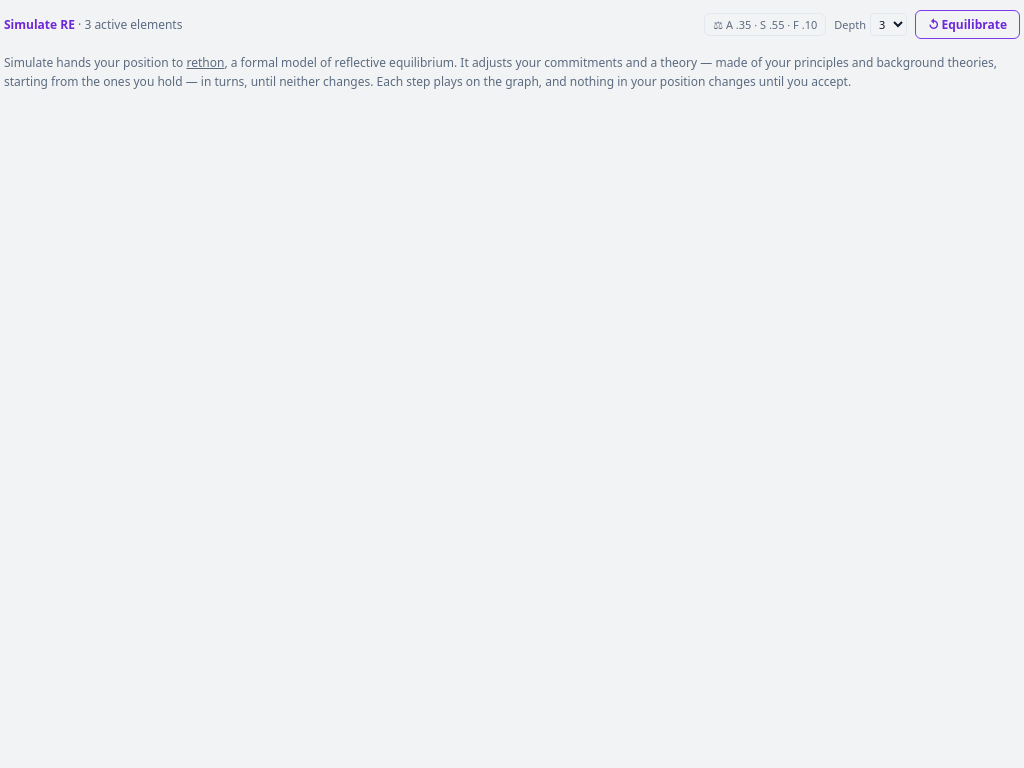
a result › says what accepting would change, and no more
Click the button "↺ Equilibrate" at (968, 24), box [915,10,1020,39]
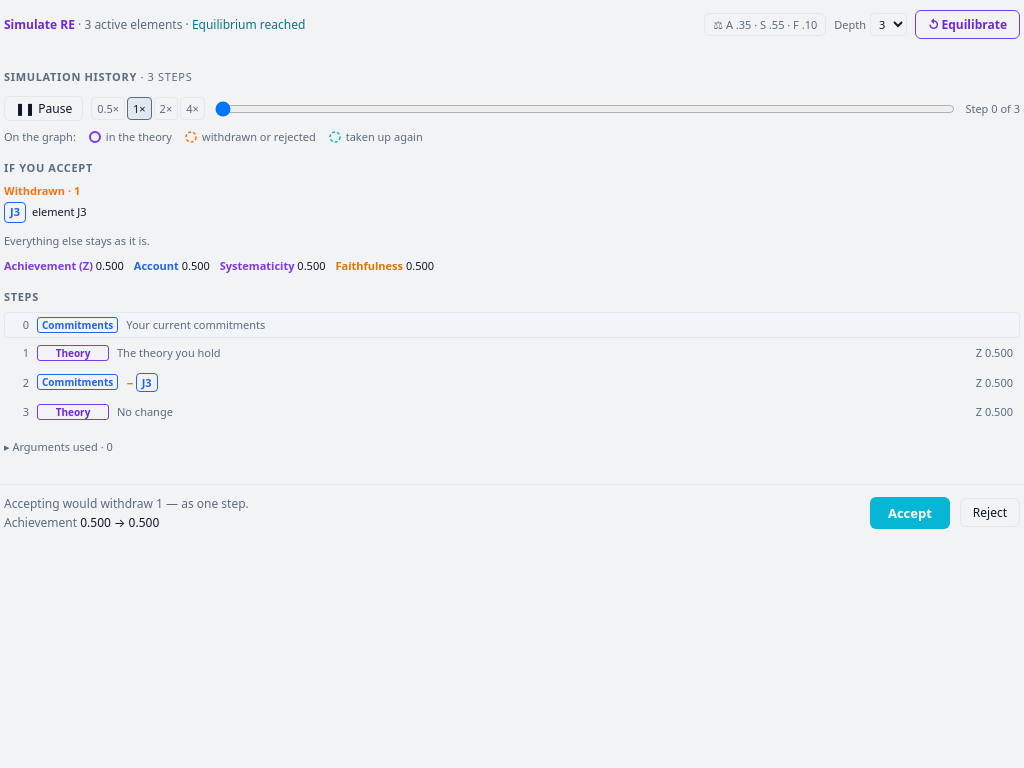
Check: the text "Withdrawn · 1" is shown, box [4,183,80,198]
Check: the text "element J3" is shown, box [32,204,87,220]
Check: the text "Everything else stays as it is." is shown, box [4,232,150,248]
